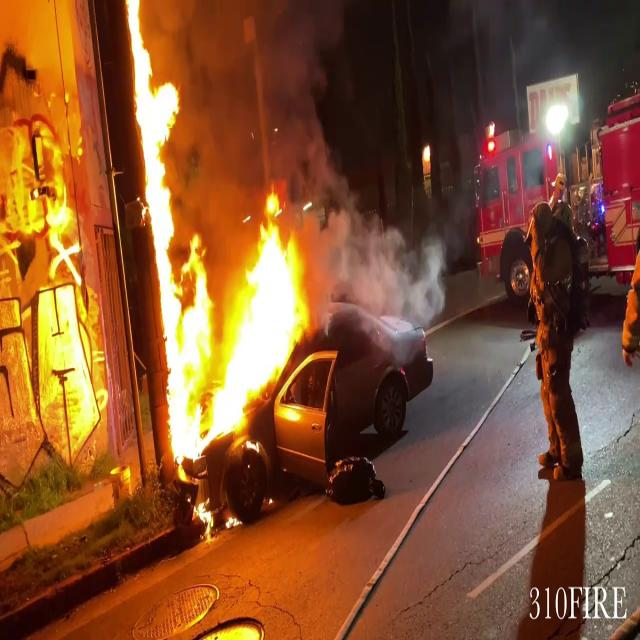Fire: (155, 188, 316, 458), (122, 0, 202, 369)
Smoke: (310, 210, 448, 336)
